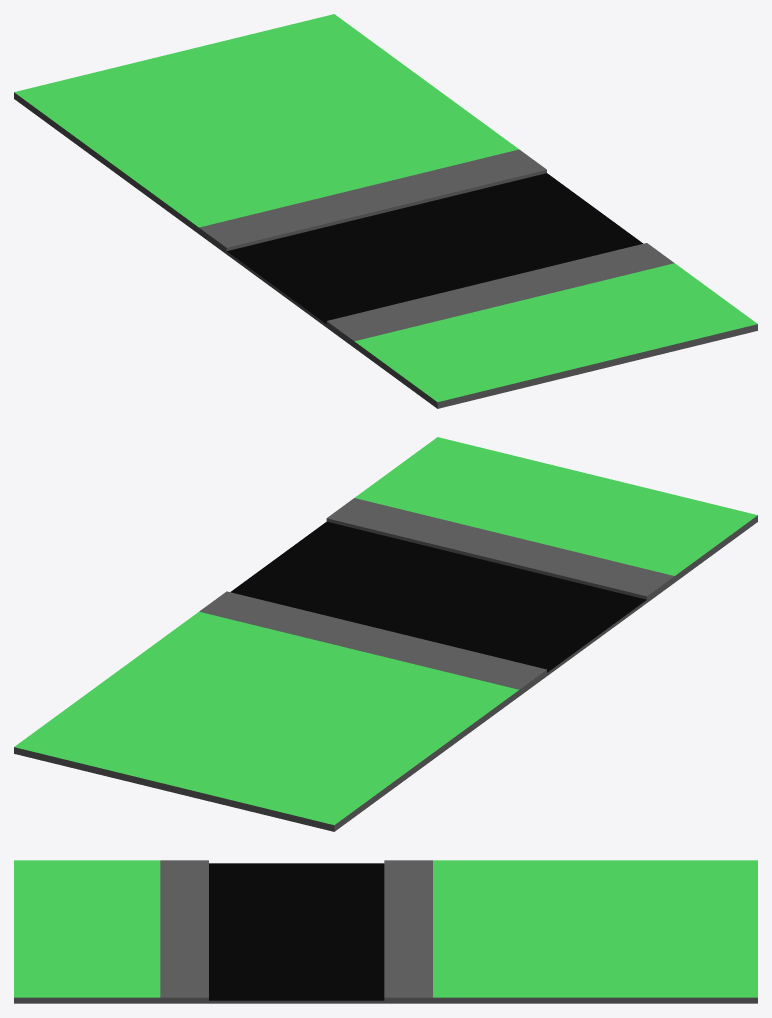
Rendered from SM_GameBlock02.fbx.
3 renders of one model, top to bottom at view 1: azimuth 30°, elevation 25°; view 2: azimuth 150°, elevation 25°; view 3: azimuth 270°, elevation 25°, orthographic. The views are drawn at different scales.
Parts seen in each view (by area): view 1: SM_GameBlock02; view 2: SM_GameBlock02; view 3: SM_GameBlock02.
Part boxes in pixels (bbox=[...]): SM_GameBlock02: bbox=[14, 14, 757, 408]; SM_GameBlock02: bbox=[14, 437, 757, 831]; SM_GameBlock02: bbox=[14, 860, 757, 1003].
Size of the model in its own units: 500 by 10 by 1145.
